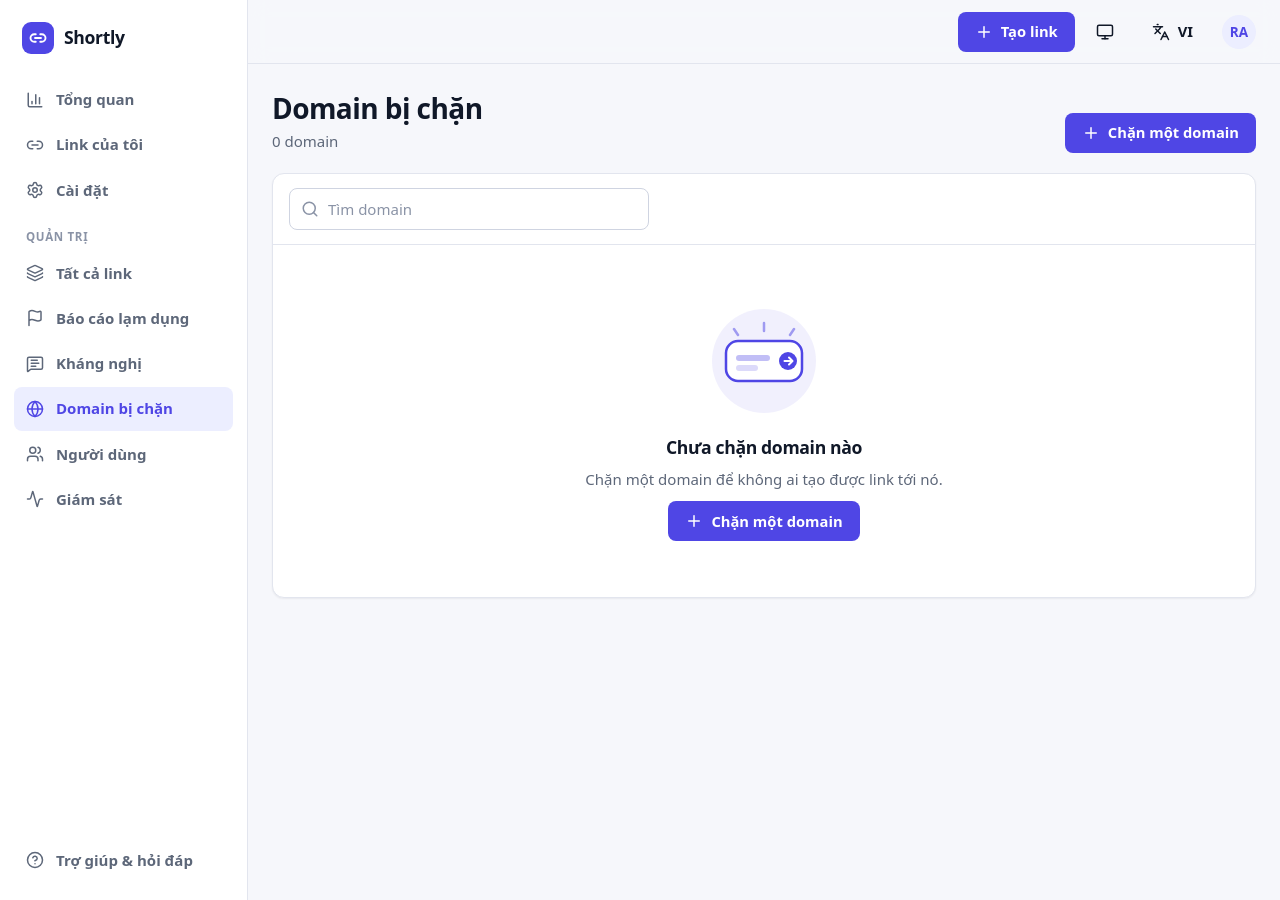
quản trị: domain bị chặn › thêm domain: mặc định chặn luôn link hiện có, báo số link đã chặn và tải lại danh sách
Expected: the heading "Chưa chặn domain nào" is shown, [666, 437, 862, 458]
Click the button "Chặn một domain" in the row of "0 domain". click: {"x": 1160, "y": 133}
box: [1065, 113, 1256, 153]
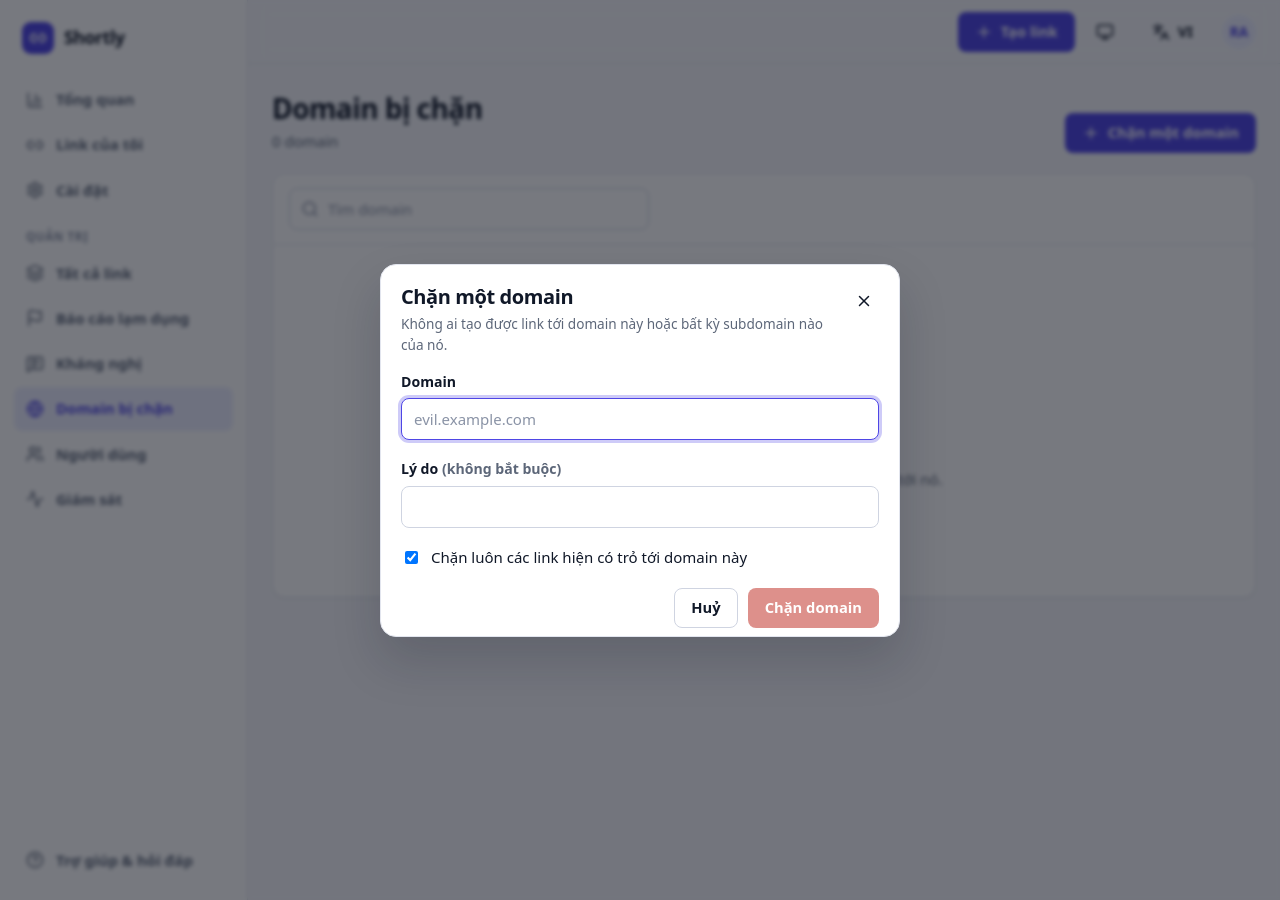
Result: the checkbox is checked at [405, 551, 418, 564]
Result: the button "Chặn domain" is disabled at [748, 588, 879, 628]
Type " evil.com " into the field labelled "Domain". click: {"x": 640, "y": 419}
box: [401, 398, 879, 440]
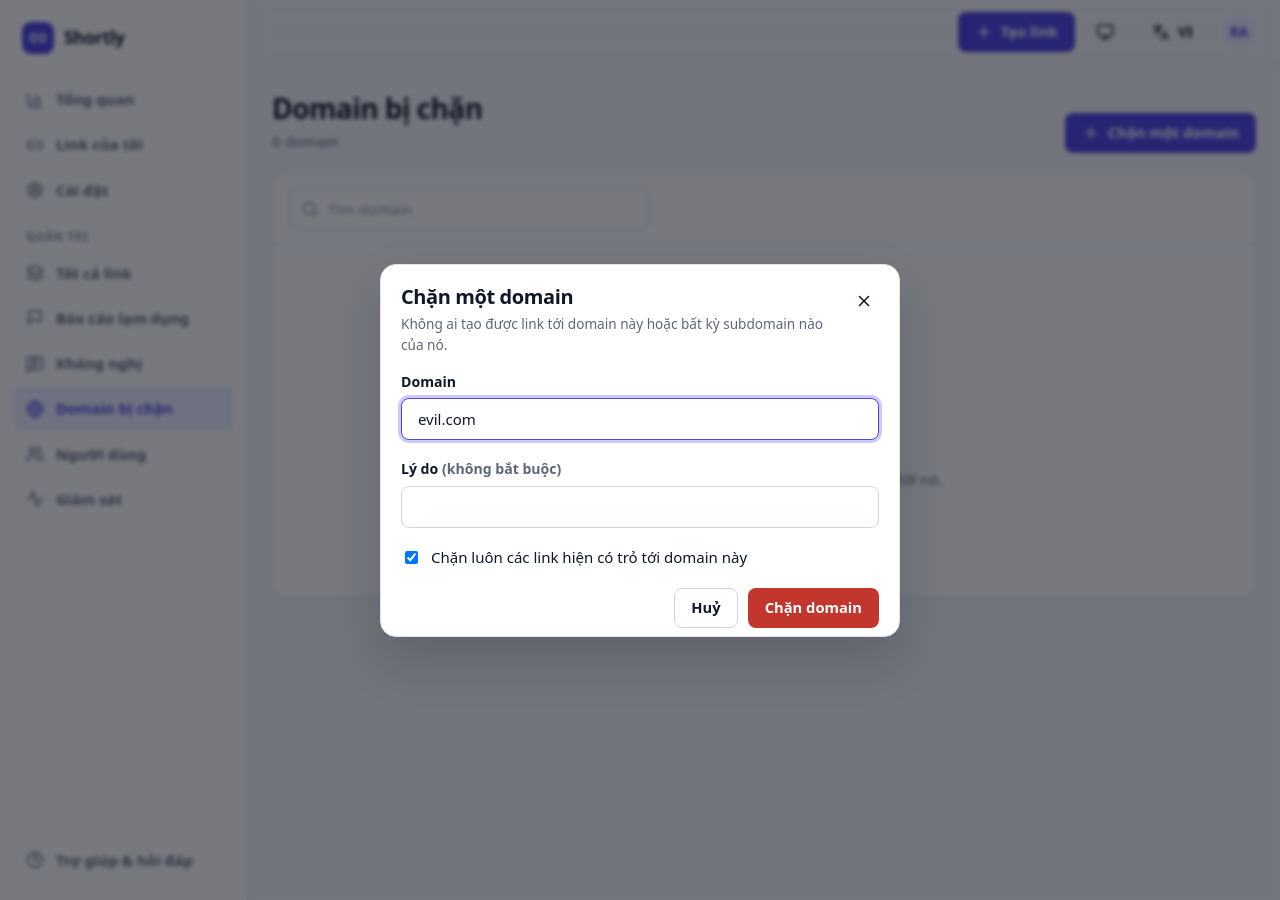
Type "lừa đảo" into the field labelled "Lý do (không bắt buộc)". click: {"x": 640, "y": 507}
box: [401, 486, 879, 528]
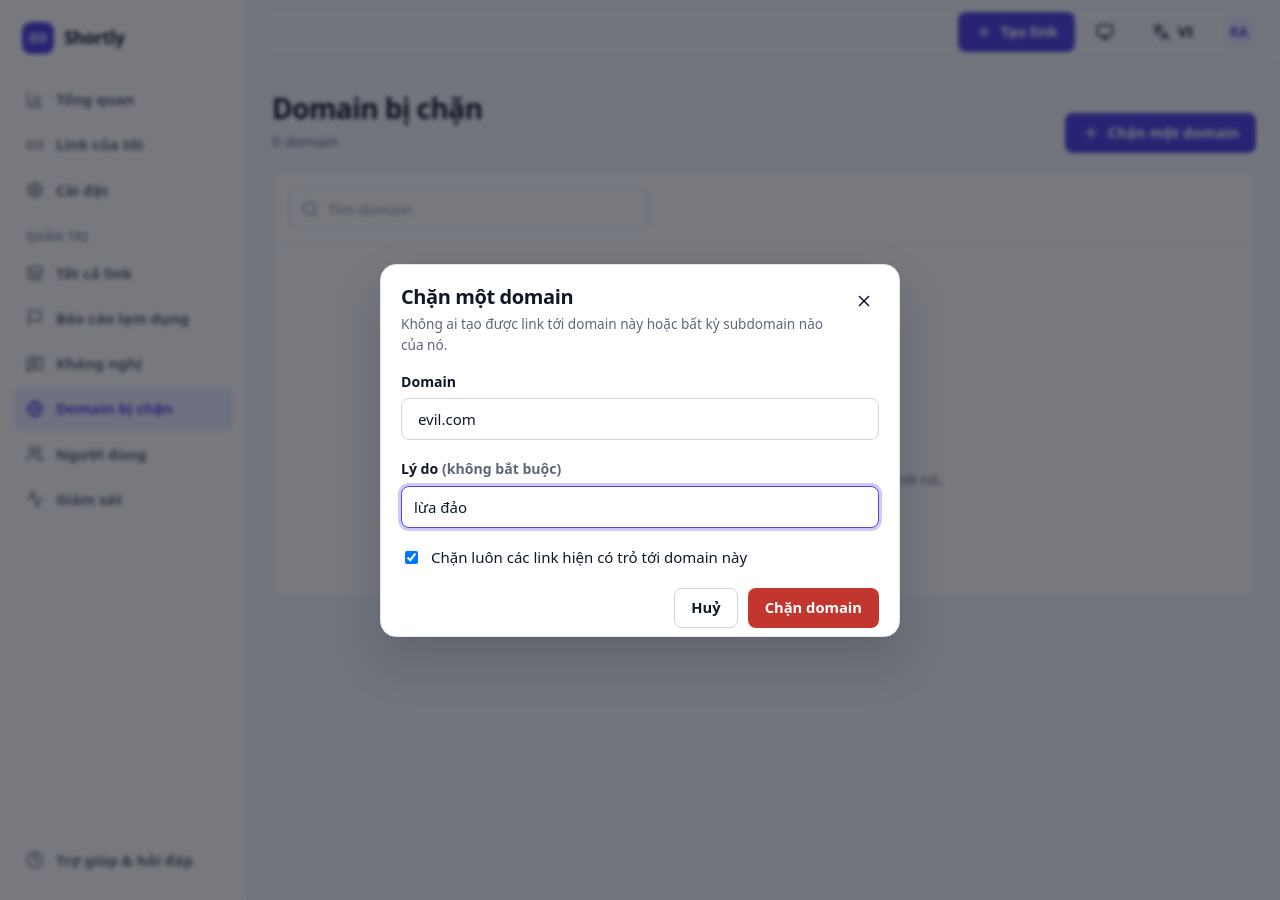
Click the button "Chặn domain". click: {"x": 813, "y": 608}
box: [748, 588, 879, 628]
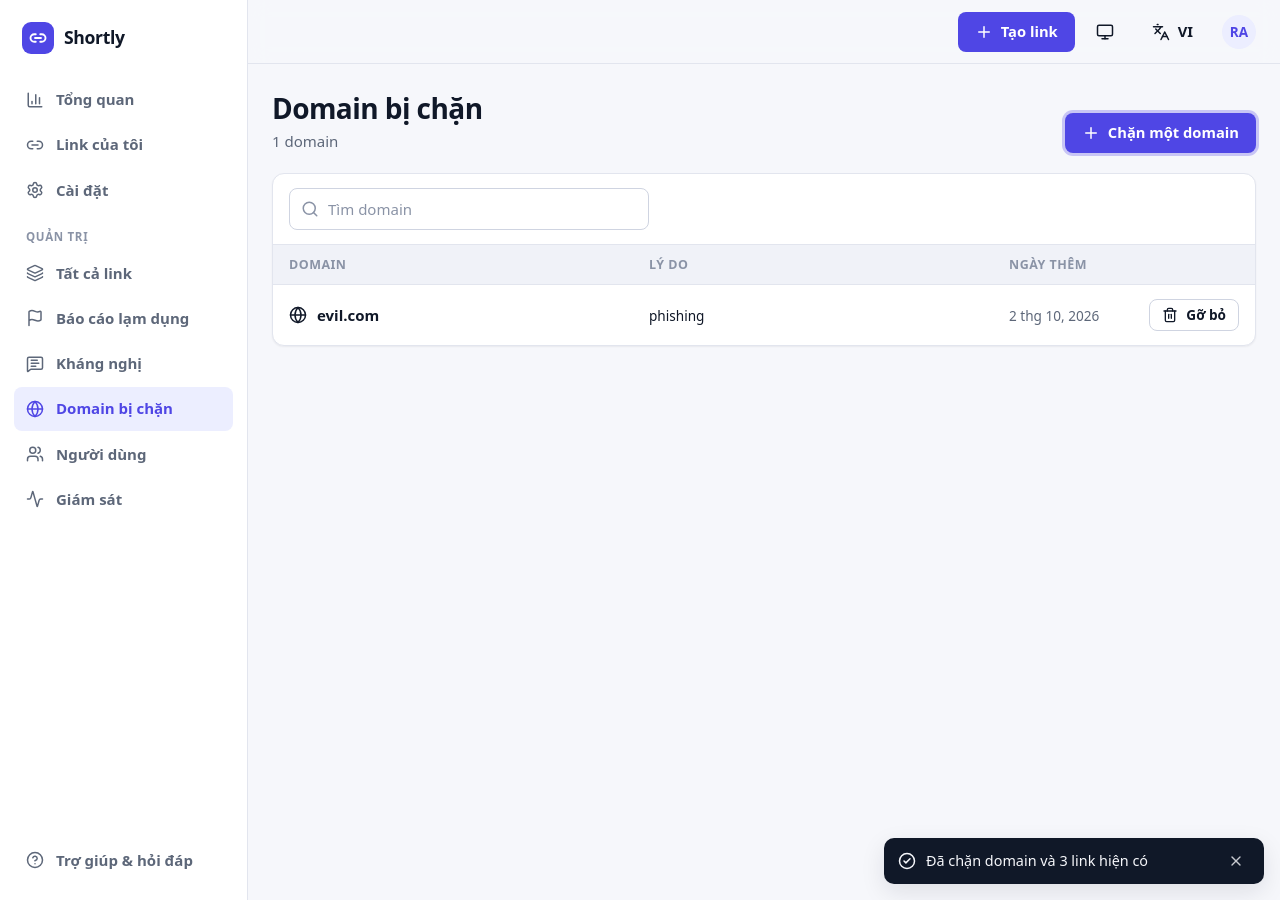
Result: the text "Đã chặn domain và 3 link hiện có" is shown at [926, 850, 1148, 872]
Result: the text "evil.com" is shown at [317, 304, 379, 327]
